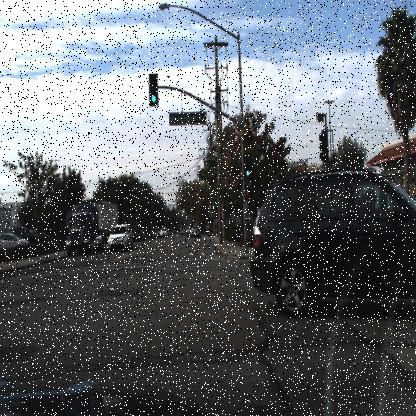car: (251, 167, 415, 322), (105, 220, 134, 255), (0, 225, 28, 253), (110, 222, 134, 253), (0, 233, 33, 253), (190, 223, 202, 237), (158, 225, 169, 239)
trafficLight-Green: (149, 71, 160, 107), (243, 153, 254, 187)
truck: (62, 192, 122, 256), (64, 196, 118, 256)
